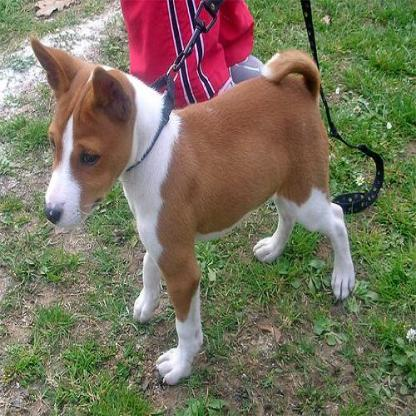basenji: (28, 34, 356, 382)
